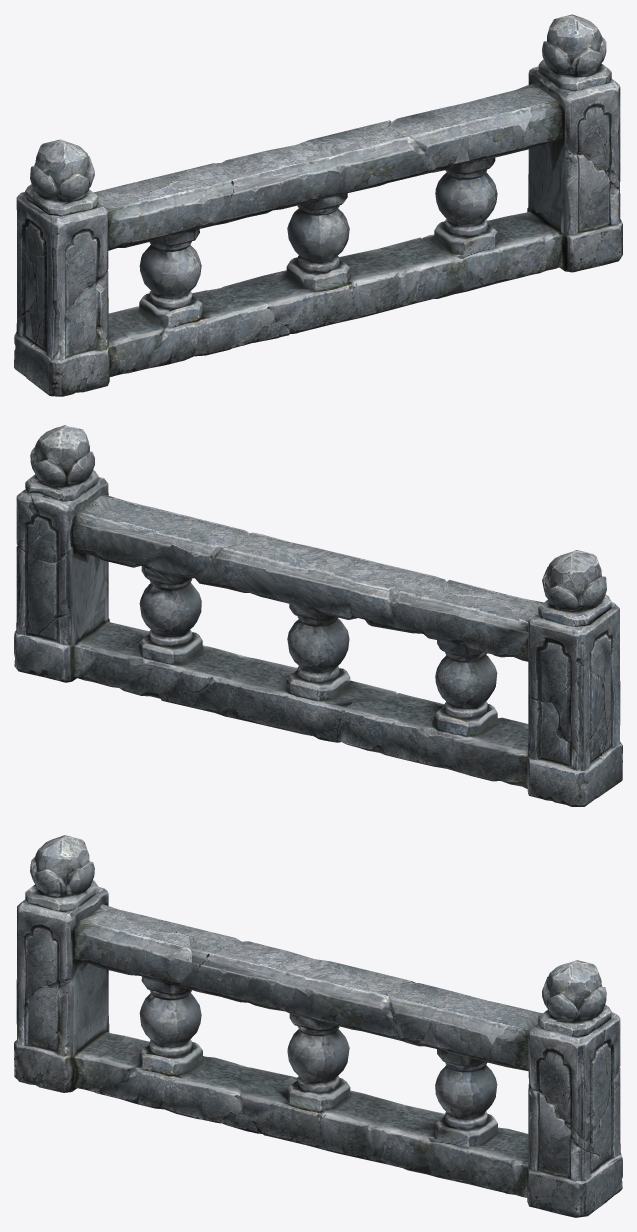
The model's file is bridge_rail-detail-6k-r1.glb.
3 views of the same model, one above another, from view 1: azimuth 30°, elevation 25°; view 2: azimuth 150°, elevation 25°; view 3: azimuth 330°, elevation 25° (orthographic).
Parts seen in each view (by area): view 1: tripo_node_e973b4fc-50b6-46f9-8c12-57b2e51ba307; view 2: tripo_node_e973b4fc-50b6-46f9-8c12-57b2e51ba307; view 3: tripo_node_e973b4fc-50b6-46f9-8c12-57b2e51ba307.
Boxes of the visible parts, <box> form: tripo_node_e973b4fc-50b6-46f9-8c12-57b2e51ba307: <box>14,14,622,396</box>; tripo_node_e973b4fc-50b6-46f9-8c12-57b2e51ba307: <box>14,425,622,806</box>; tripo_node_e973b4fc-50b6-46f9-8c12-57b2e51ba307: <box>14,835,622,1217</box>.
Bounding box in the file's own units: 0.9796 × 0.3825 × 0.1322.
1 material, 1 textured.
